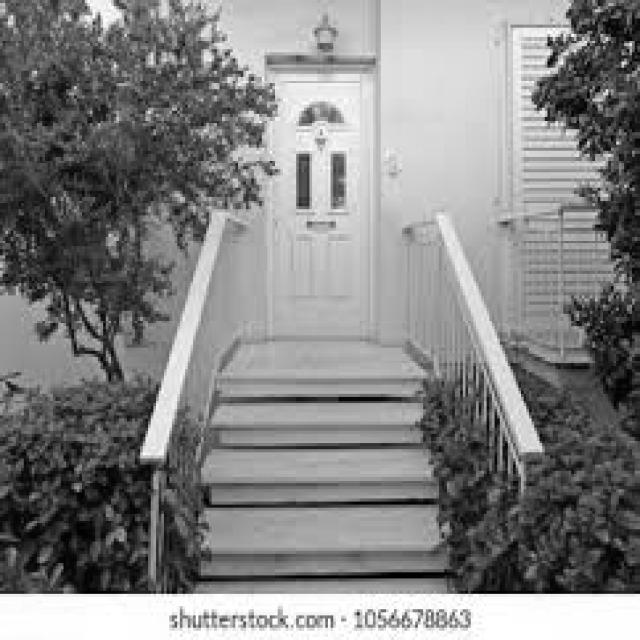stair: (196, 374, 446, 572)
